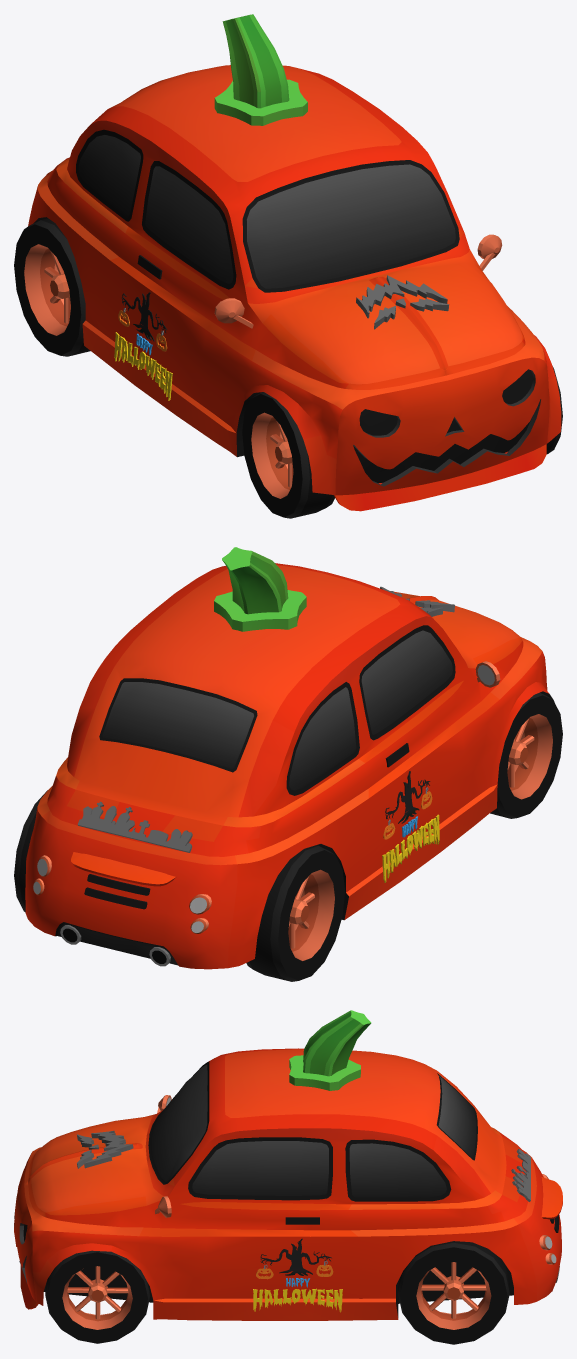
Rendered from car1.fbx.
The picture shows the model from 3 angles, top to bottom: view 1: azimuth 30°, elevation 25°; view 2: azimuth 150°, elevation 25°; view 3: azimuth 270°, elevation 25°; orthographic projection. The views are drawn at different scales.
Visible parts, largest first — view 1: Body_TextureAtlas_0, RearRightWheel_TextureAtlas_0, FrontRightWheel_TextureAtlas_0, Happy_Halloween_06_Halloween_props1_0.001, Horror_face1_Halloween_props1_0.001; view 2: Body_TextureAtlas_0, RearRightWheel_TextureAtlas_0, FrontRightWheel_TextureAtlas_0, Happy_Halloween_06_Halloween_props1_0.001, Gravyard_Halloween_props1_0.001, RearLeftWheel_TextureAtlas_0; view 3: Body_TextureAtlas_0, RearLeftWheel_TextureAtlas_0, FrontLeftWheel_TextureAtlas_0, Happy_Halloween_06_Halloween_props1_0, Horror_face1_Halloween_props1_0.001, Gravyard_Halloween_props1_0.001.
Boxes of the visible parts, x1,y1,x2,y2 form: Body_TextureAtlas_0: (28,14,561,511); RearRightWheel_TextureAtlas_0: (14,218,90,356); FrontRightWheel_TextureAtlas_0: (242,392,334,518); Happy_Halloween_06_Halloween_props1_0.001: (114,292,172,400); Horror_face1_Halloween_props1_0.001: (356,275,449,329); Body_TextureAtlas_0: (25,547,554,969); RearRightWheel_TextureAtlas_0: (246,845,344,981); FrontRightWheel_TextureAtlas_0: (490,692,562,818); Happy_Halloween_06_Halloween_props1_0.001: (382,771,439,882); Gravyard_Halloween_props1_0.001: (77,801,192,852); RearLeftWheel_TextureAtlas_0: (14,790,47,912); Body_TextureAtlas_0: (14,1010,562,1320); RearLeftWheel_TextureAtlas_0: (398,1241,509,1344); FrontLeftWheel_TextureAtlas_0: (45,1250,150,1343); Happy_Halloween_06_Halloween_props1_0: (253,1238,342,1312); Horror_face1_Halloween_props1_0.001: (77,1130,133,1168); Gravyard_Halloween_props1_0.001: (511,1149,530,1201).
Size of the model in its own units: 188 by 221 by 390.
1 material, 1 textured.
